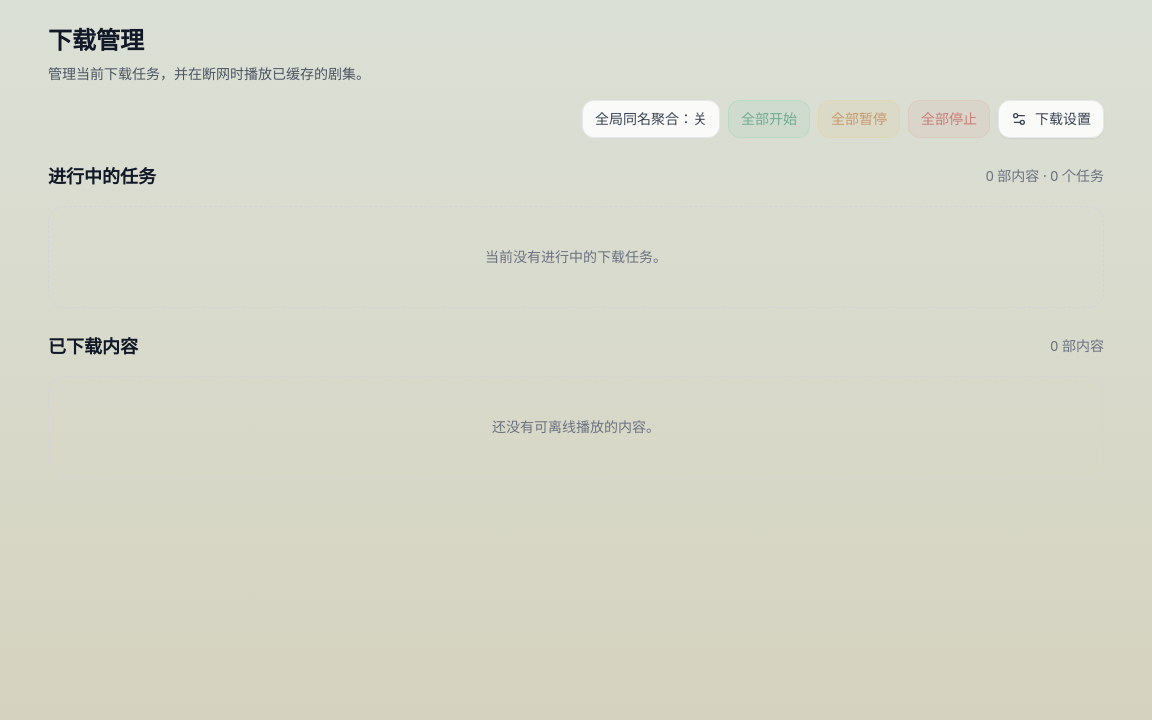
it: DownloadedContentDialog › shows local desktop download paths in settings when the desktop runtime is enabled
The width and height of the screenshot is (1152, 720).
Click the button "下载设置": (1051, 119) [998,100,1104,138]
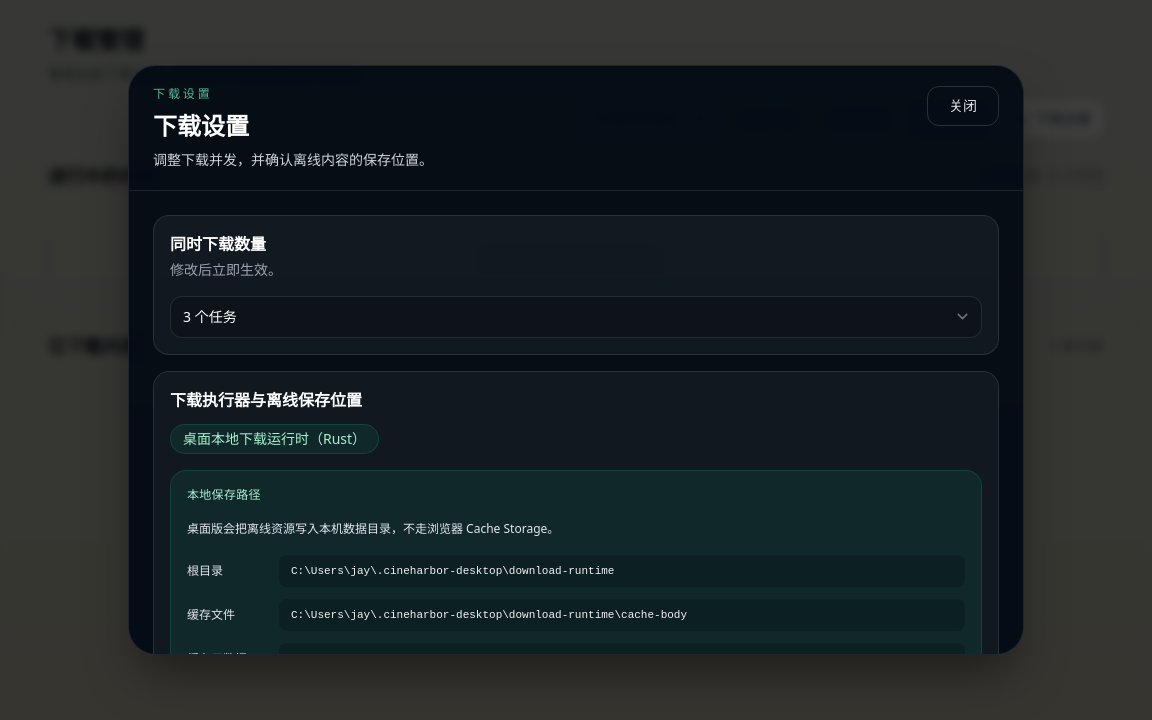
Now the text "桌面本地下载运行时（Rust）" is shown, box [170,424,379,454]
Now the text "桌面版会把离线资源写入本机数据目录，不走浏览器 Cache Storage。" is shown, box [187,520,559,537]
Now the text "C:\\Users\\jay\\.cineharbor-desktop\\download-runtime" is shown, box [279,555,965,587]
